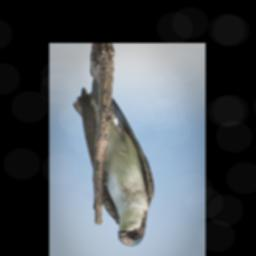Swallow: (72, 77, 154, 247)
